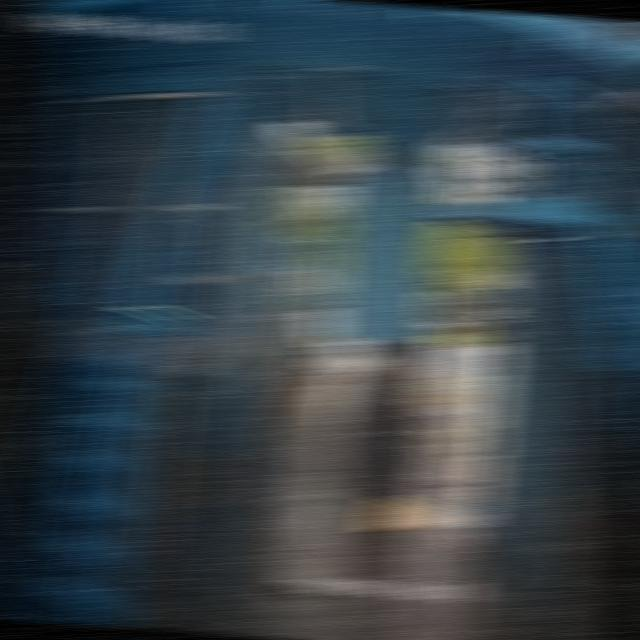cement_mixer_truck: (329, 274, 448, 475)
